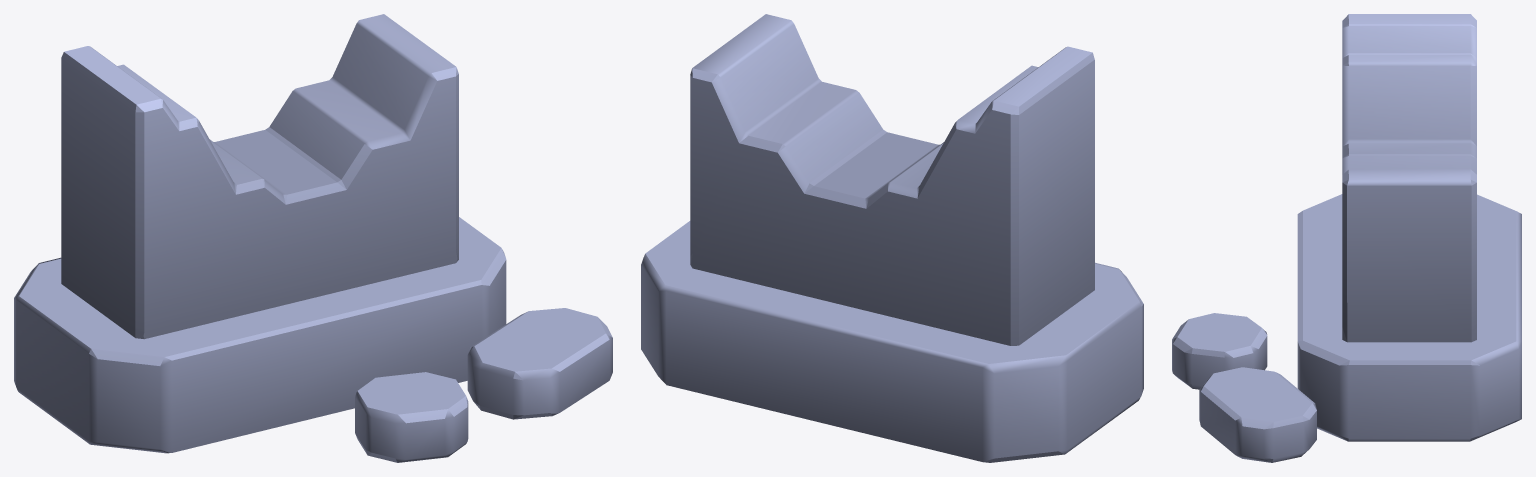
Rendered from kenney-graveyard__gravestone-broken.glb.
3 renders of one model, left to right at view 1: azimuth 30°, elevation 25°; view 2: azimuth 150°, elevation 25°; view 3: azimuth 270°, elevation 25°, orthographic. The views are drawn at different scales.
Parts seen in each view (by area): view 1: gravestone-broken; view 2: gravestone-broken; view 3: gravestone-broken.
Part boxes in pixels (x1,y1,x2,y2): gravestone-broken: (14,14,612,462); gravestone-broken: (641,14,1143,462); gravestone-broken: (1172,14,1521,462).
Bounding box in the file's own units: 0.5075 × 0.3411 × 0.39.
Materials: 1 (1 with a texture image).
